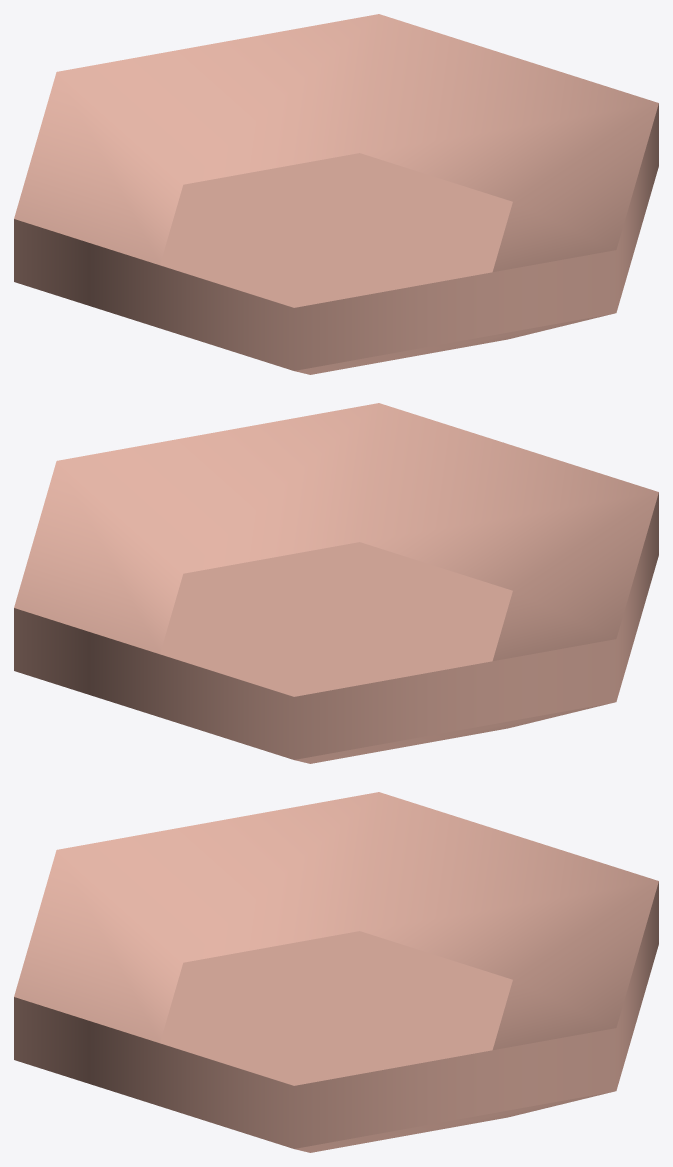
File: n4_plate_003_lev4.glb
3 renders of one model, top to bottom at view 1: azimuth 30°, elevation 25°; view 2: azimuth 150°, elevation 25°; view 3: azimuth 270°, elevation 25°, orthographic.
Visible parts, largest first — view 1: n4_plate_003_lev4; view 2: n4_plate_003_lev4; view 3: n4_plate_003_lev4.
Boxes of the visible parts, x1=… form: n4_plate_003_lev4: x1=14, y1=14, x2=658, y2=374; n4_plate_003_lev4: x1=14, y1=403, x2=658, y2=763; n4_plate_003_lev4: x1=14, y1=792, x2=658, y2=1152.
Size of the model in its own units: 0.6742 by 0.1324 by 0.6251.
Materials: 1 (1 with a texture image).
